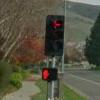Traffic light: (31, 10, 70, 84)
